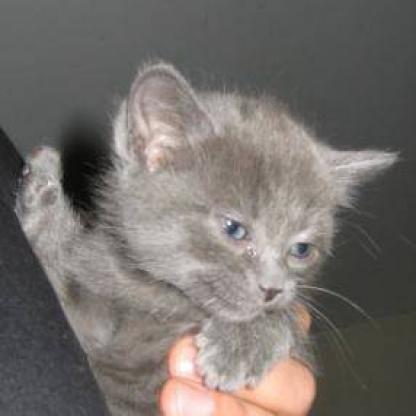cat: (64, 69, 356, 361)
